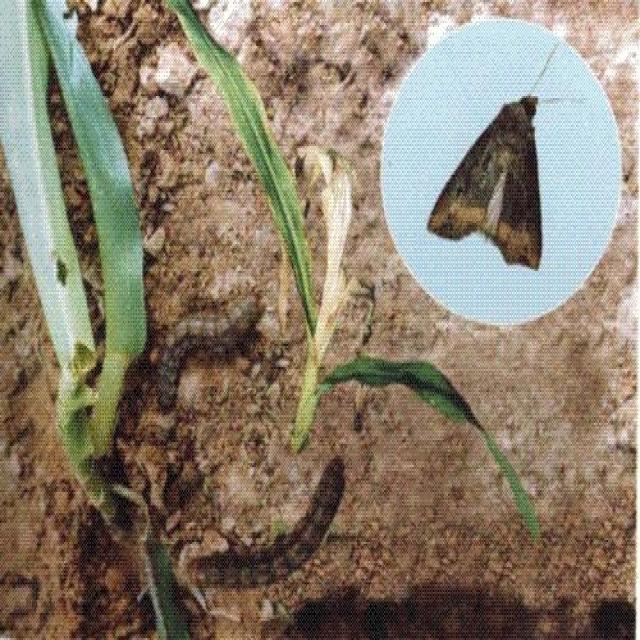black cutworm: (425, 84, 565, 280), (188, 447, 357, 581), (152, 281, 271, 425)
